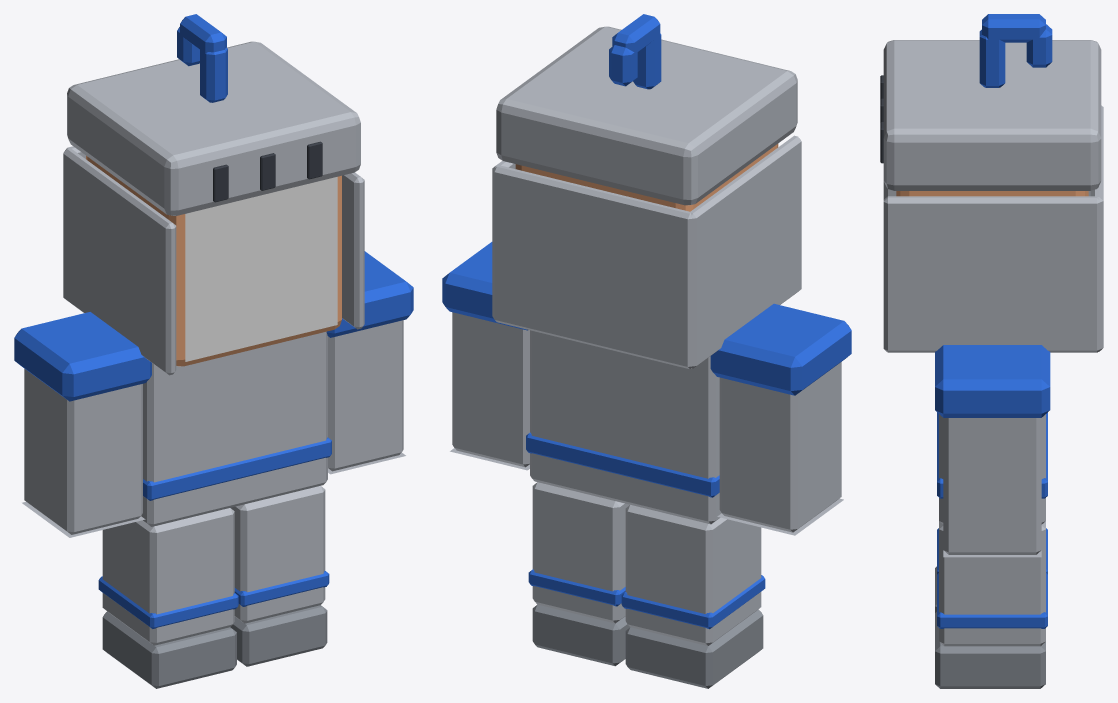
File: clank.glb
The picture shows the model from 3 angles, left to right: view 1: azimuth 30°, elevation 25°; view 2: azimuth 150°, elevation 25°; view 3: azimuth 270°, elevation 25°; orthographic projection. The views are drawn at different scales.
Visible parts, largest first — view 1: Cube.015, Cube.004, Plane, Cube.019, Cube.005, Cube, Cube.007, Cube.002, Cube.010, Cube.001, Cube.003, Cube.020 (+7 smaller); view 2: Cube.015, Cube.021, Cube.004, Cube.019, Cube.005, Cube, Cube.007, Cube.002, Cube.010, Cube.001, Cube.003, Cube.012 (+7 smaller); view 3: Cube.020, Cube.015, Cube.007, Cube.002, Cube.011, Cube.003, Cube.014, Cube.023, Cube.022, Cube.009, Cube.021, Cube.004 (+2 smaller).
Boxes of the visible parts, <box> form: Cube.015: <box>67,41,360,215</box>; Cube.004: <box>141,331,327,526</box>; Plane: <box>185,177,337,361</box>; Cube.019: <box>63,148,176,375</box>; Cube.005: <box>24,368,142,534</box>; Cube: <box>102,508,234,645</box>; Cube.007: <box>328,320,403,471</box>; Cube.002: <box>230,485,325,623</box>; Cube.010: <box>14,312,151,401</box>; Cube.001: <box>102,611,236,688</box>; Cube.003: <box>230,605,327,666</box>; Cube.020: <box>342,172,364,329</box>; Cube.015: <box>496,26,797,205</box>; Cube.021: <box>493,165,693,369</box>; Cube.004: <box>530,330,721,524</box>; Cube.019: <box>689,135,801,368</box>; Cube.005: <box>719,362,841,532</box>; Cube: <box>625,505,761,645</box>; Cube.007: <box>452,312,529,467</box>; Cube.002: <box>532,482,629,623</box>; Cube.010: <box>710,303,851,395</box>; Cube.001: <box>625,609,763,688</box>; Cube.003: <box>532,604,629,666</box>; Cube.012: <box>526,432,719,497</box>; Cube.020: <box>883,196,1101,352</box>; Cube.015: <box>883,40,1101,190</box>; Cube.007: <box>943,418,1041,554</box>; Cube.002: <box>939,521,1045,646</box>; Cube.011: <box>935,345,1050,417</box>; Cube.003: <box>935,612,1045,688</box>; Cube.014: <box>937,573,1047,628</box>; Cube.023: <box>982,14,1045,42</box>; Cube.022: <box>979,29,1005,87</box>; Cube.009: <box>896,191,1088,196</box>; Cube.021: <box>1090,105,1103,351</box>; Cube.004: <box>939,414,1045,524</box>.
Size of the model in its own units: 1.94 by 3.26 by 1.04.
